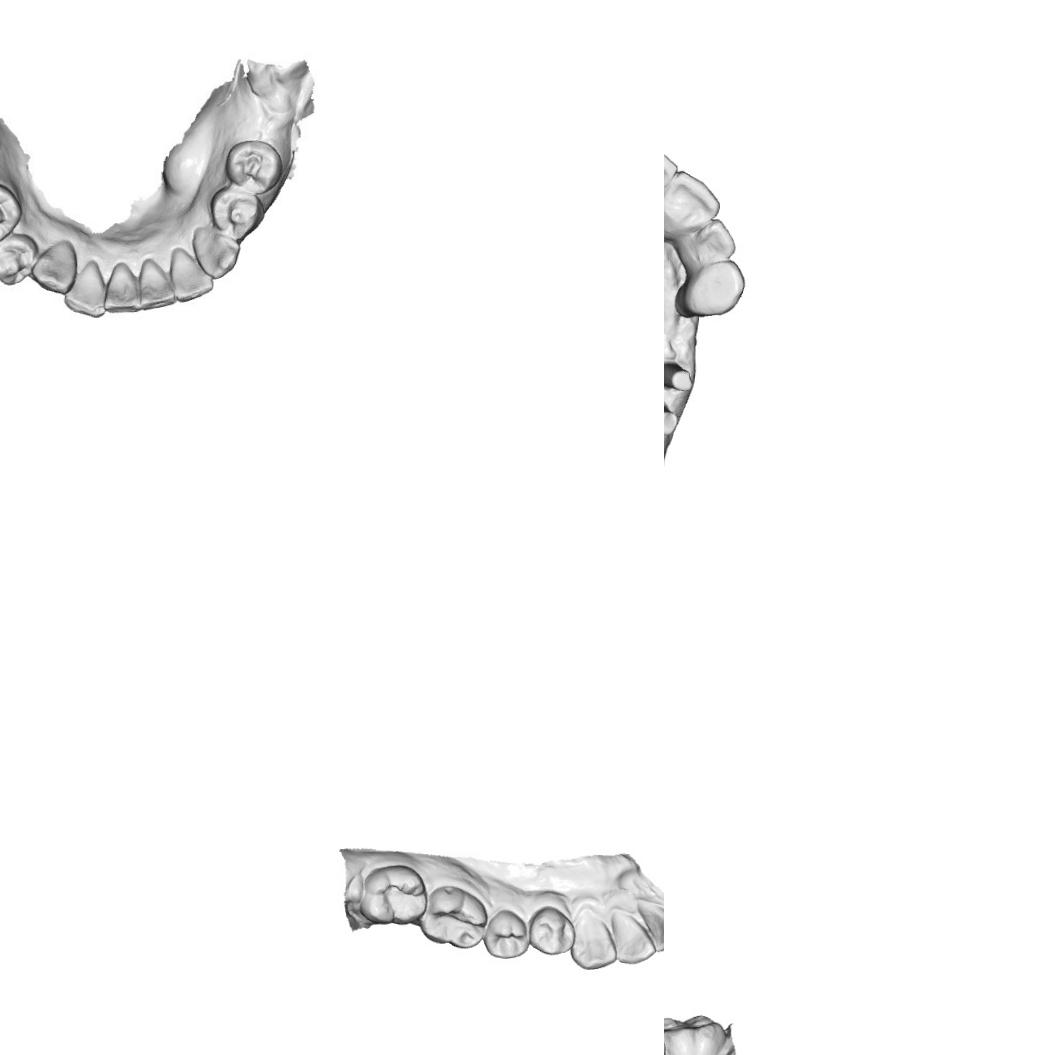abutment: (664, 358, 695, 394), (664, 397, 679, 437)
canine: (673, 258, 746, 322), (26, 238, 78, 294), (569, 914, 618, 970), (195, 223, 240, 276)
incisor: (666, 168, 724, 226), (168, 247, 216, 303), (612, 910, 658, 967), (64, 261, 110, 317), (132, 259, 178, 312), (101, 264, 144, 316), (694, 217, 737, 265), (639, 899, 664, 953), (664, 138, 681, 188)
molar: (358, 862, 430, 928), (418, 884, 489, 950), (664, 1011, 731, 1055)
premolar: (228, 140, 279, 194), (528, 904, 578, 956), (481, 908, 530, 960), (212, 187, 264, 235), (0, 237, 36, 286), (0, 184, 20, 237)
